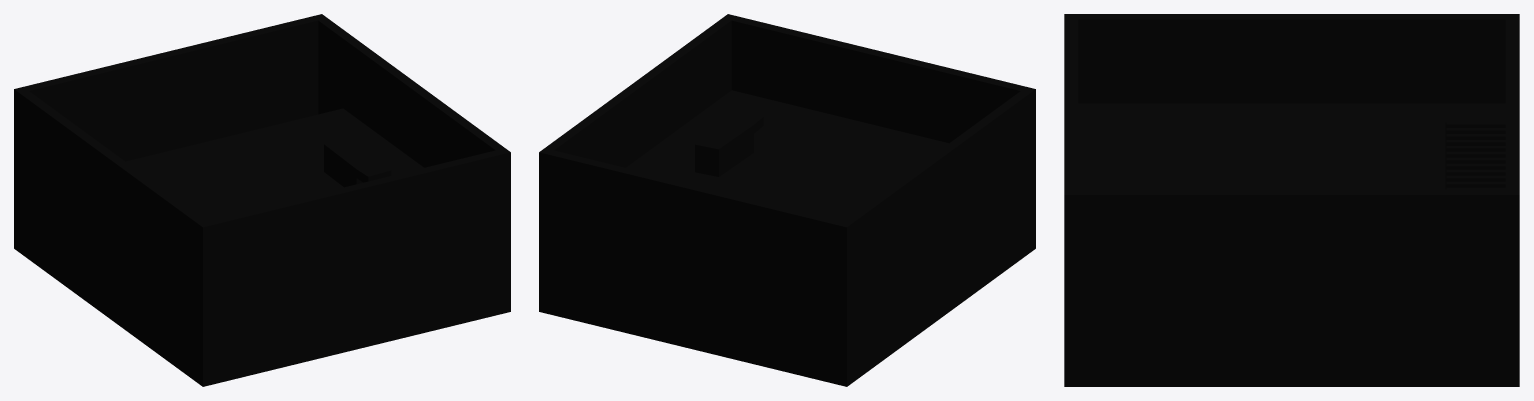
3 views of the same model, side by side, from view 1: azimuth 30°, elevation 25°; view 2: azimuth 150°, elevation 25°; view 3: azimuth 270°, elevation 25° (orthographic). The views are drawn at different scales.
Visible parts, largest first — view 1: base; view 2: base; view 3: base.
Boxes of the visible parts, box(x1,y1,x2,y2) form: base: box(14, 14, 510, 386); base: box(539, 14, 1035, 386); base: box(1064, 14, 1519, 386).
Size of what is drawn, in the model's own units: 41.53 by 20.56 by 44.14.
Materials: 1 (1 with a texture image).
